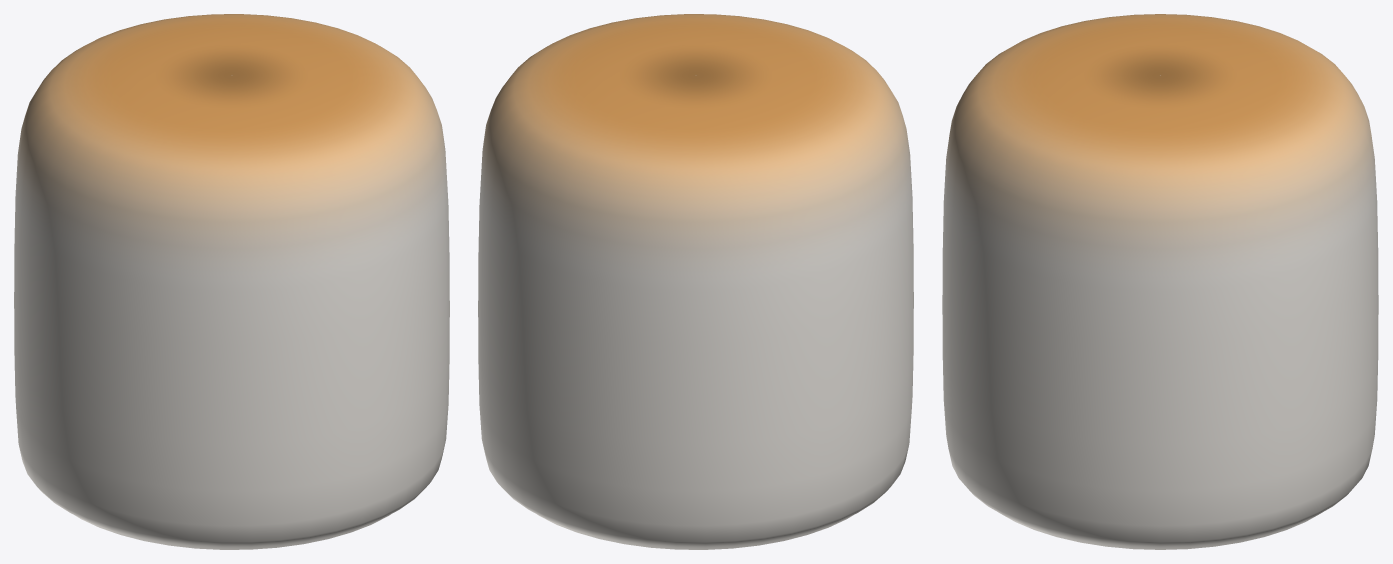
Rendered from marshmallow_toasted.glb.
3 renders of one model, left to right at view 1: azimuth 30°, elevation 25°; view 2: azimuth 150°, elevation 25°; view 3: azimuth 270°, elevation 25°, orthographic.
Parts seen in each view (by area): view 1: marshmallow; view 2: marshmallow; view 3: marshmallow.
Part boxes in pixels (box(x1,y1,x2,y2)): marshmallow: box(14, 14, 449, 549); marshmallow: box(478, 14, 913, 549); marshmallow: box(942, 14, 1378, 549).
Size of the model in its own units: 1.19 by 1.2 by 1.19.
Materials: 1 (1 with a texture image).
